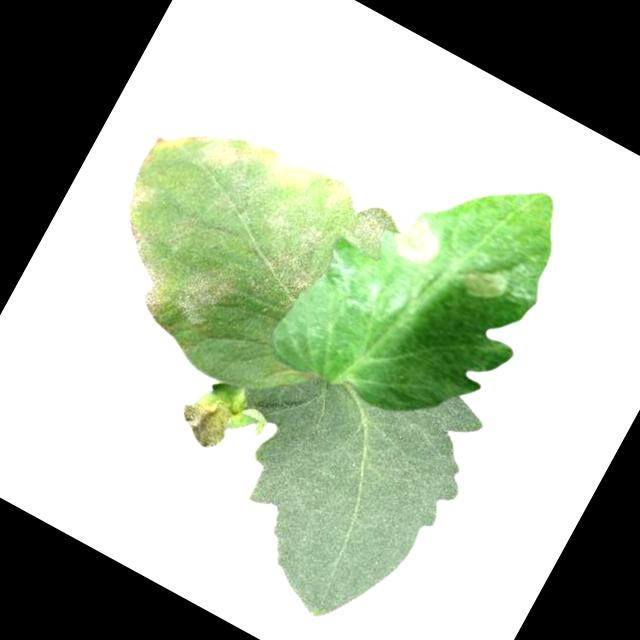Late_blight: (78, 88, 409, 401), (168, 386, 240, 458), (387, 212, 448, 273), (453, 254, 512, 309)
healthy: (168, 308, 499, 640)
